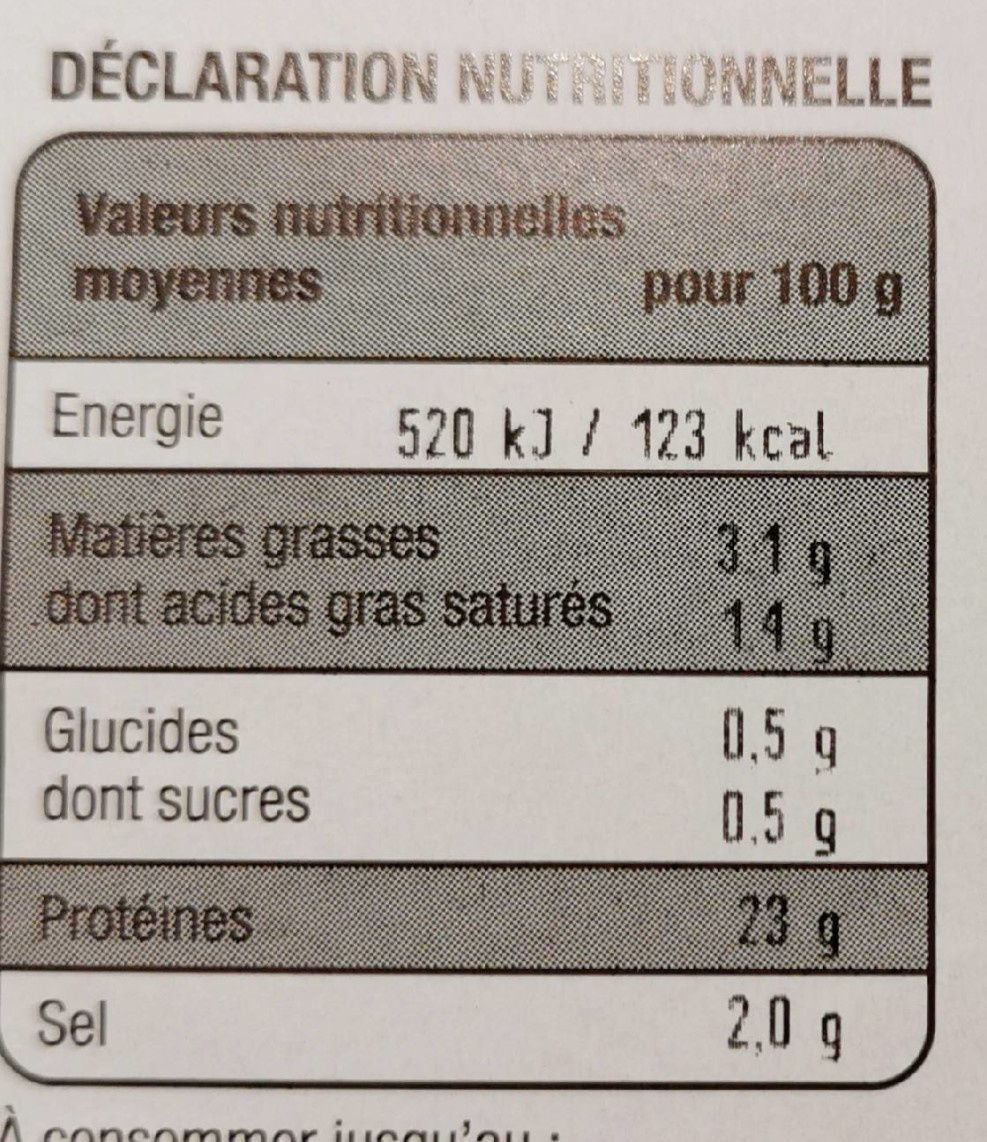column: (17, 347, 627, 1070), (640, 254, 926, 1084)
table: (13, 140, 933, 1084)
